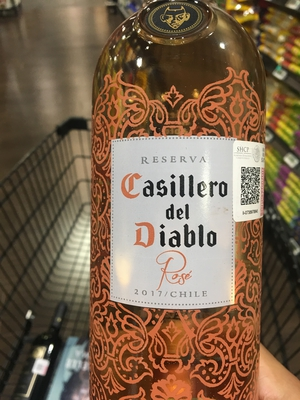casillero del diablo rose: (82, 10, 276, 380)
